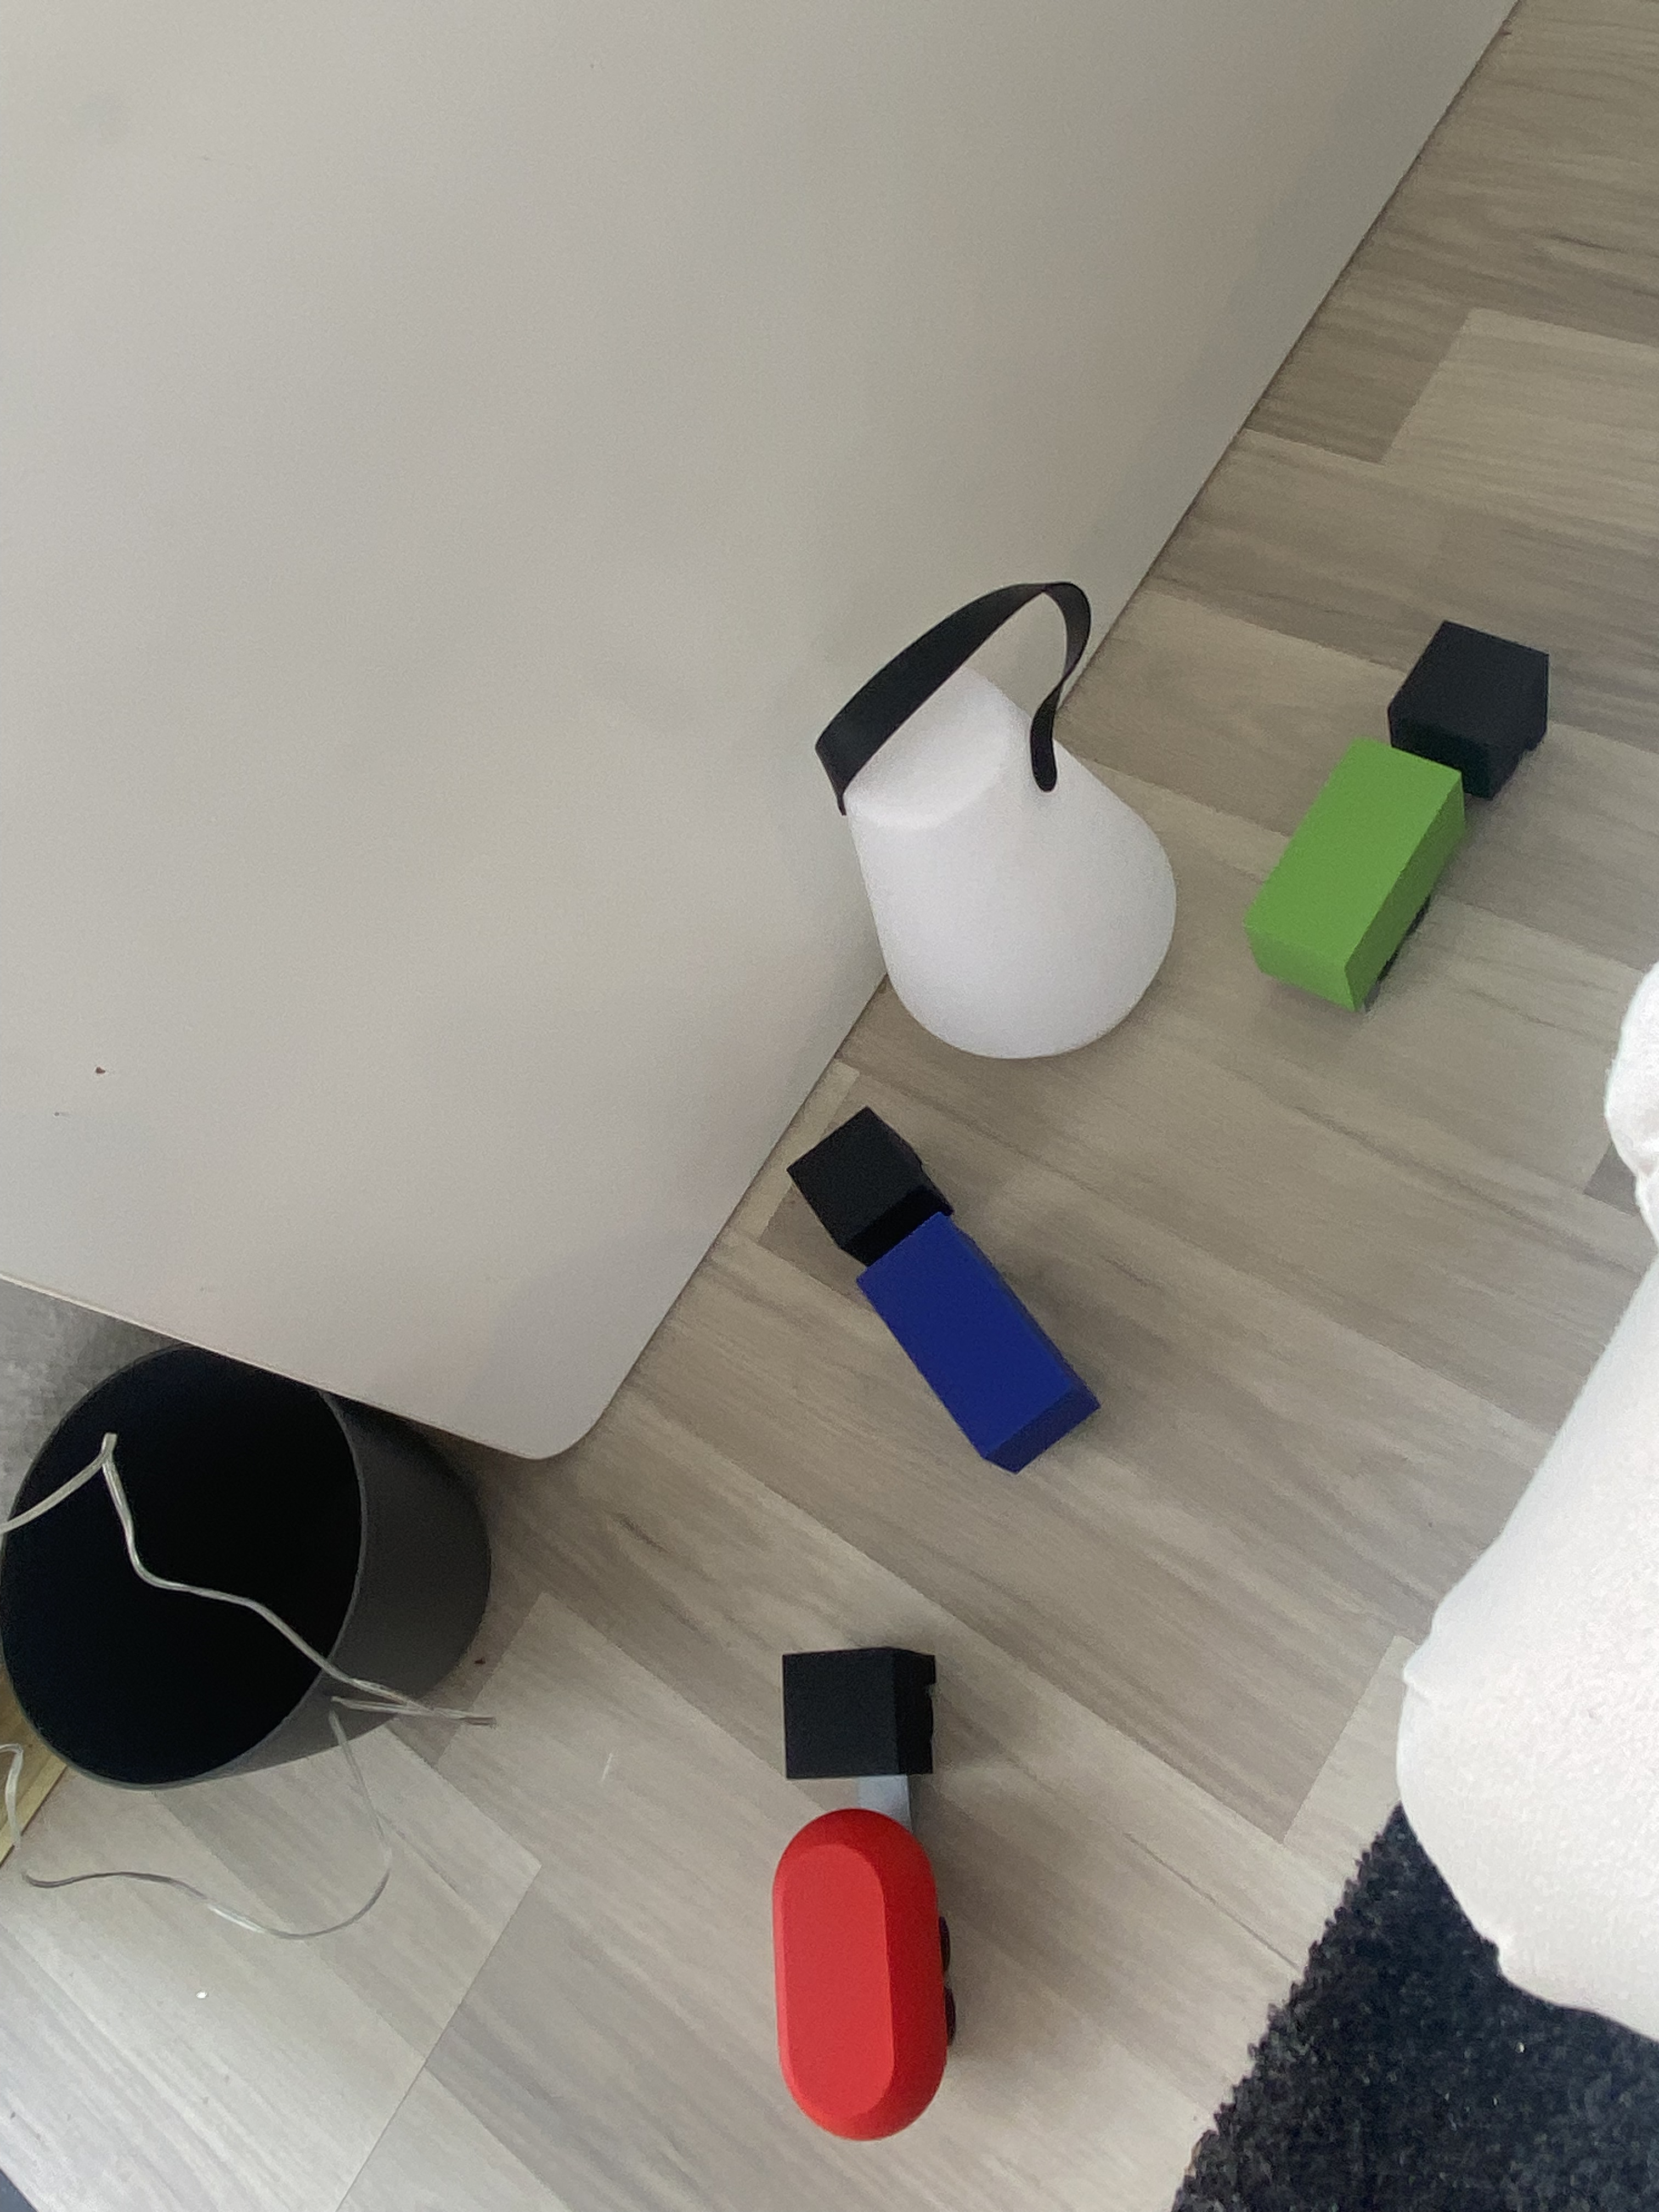blue_truck: (861, 1101, 1012, 1486)
green_truck: (1190, 723, 1621, 897)
red_truck: (758, 1649, 950, 2139)
